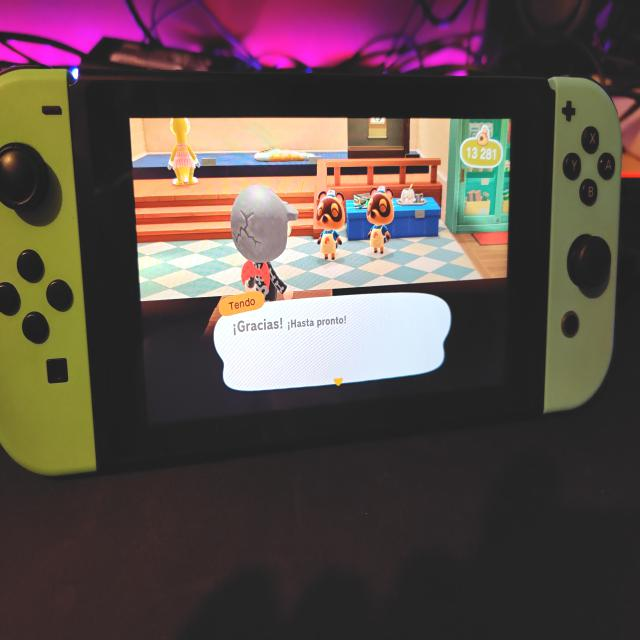text_bubble: (214, 292, 455, 393)
